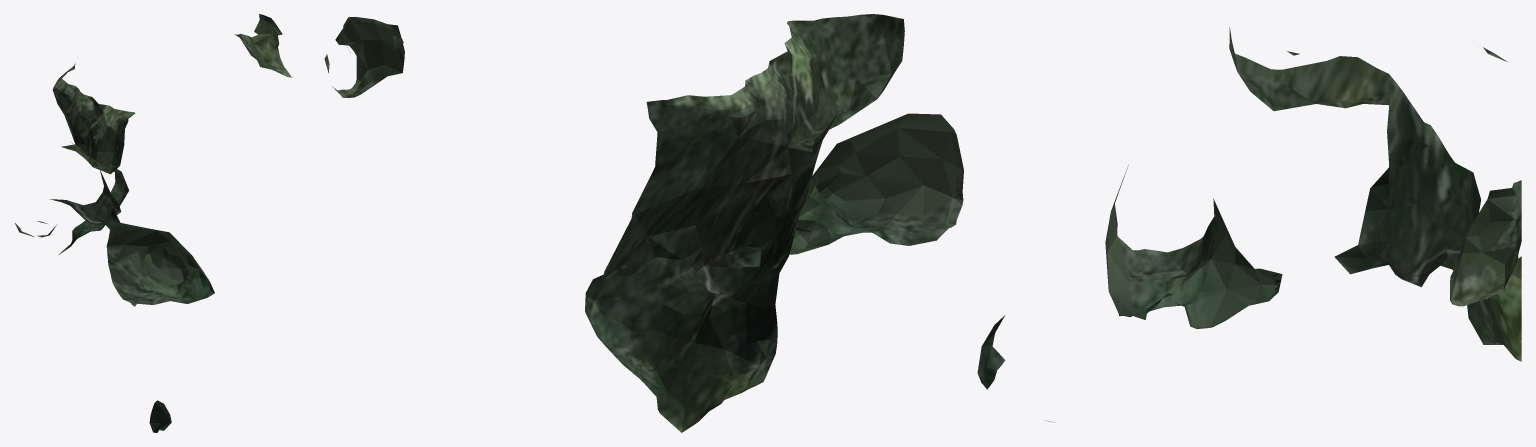
3 renders of one model, left to right at view 1: azimuth 30°, elevation 25°; view 2: azimuth 150°, elevation 25°; view 3: azimuth 270°, elevation 25°, orthographic. The views are drawn at different scales.
Bounding box in the file's own units: 5.9 × 5.6 × 5.9.
2 materials, 2 textured.
